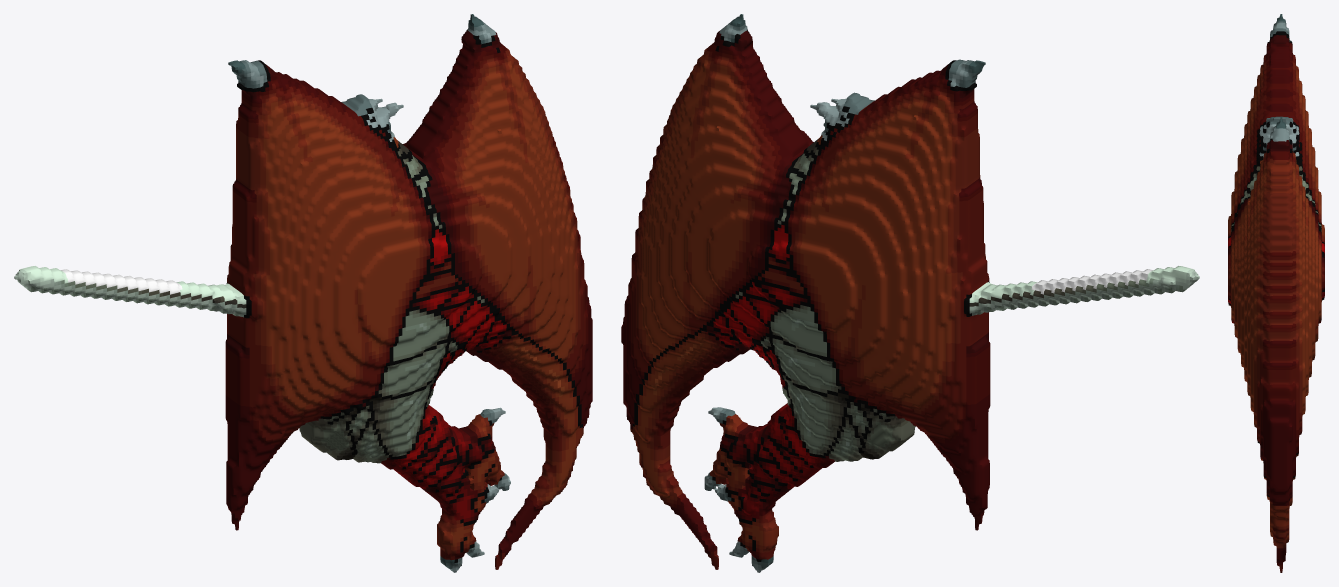
The model's file is Fight_015_2_10.obj.
3 renders of one model, left to right at view 1: azimuth 30°, elevation 25°; view 2: azimuth 150°, elevation 25°; view 3: azimuth 270°, elevation 25°, orthographic. The views are drawn at different scales.
Bounding box in the file's own units: 16.28 × 15.56 × 3.
1 material, 1 textured.
